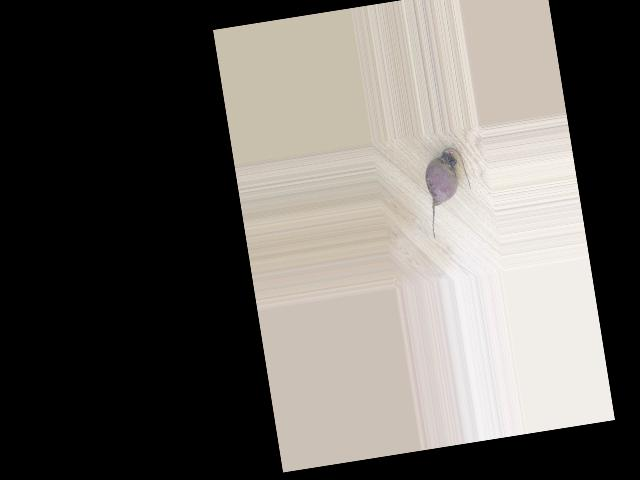beet: (420, 145, 477, 240)
